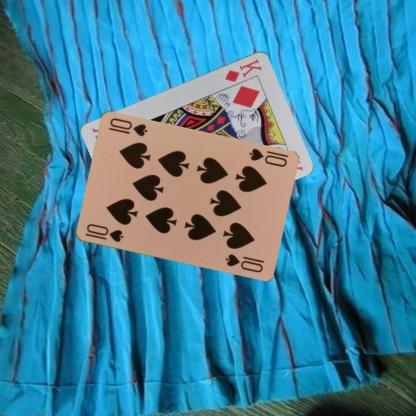10s: (82, 221, 125, 244), (246, 146, 288, 168)
Kd: (222, 56, 264, 83)
